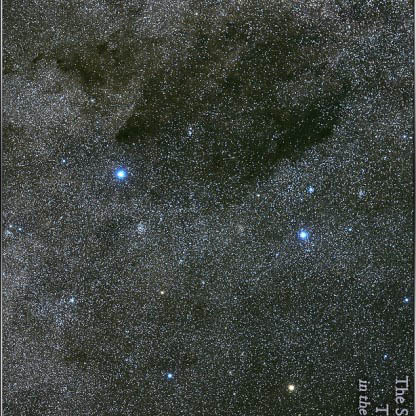Southern Cross: (108, 158, 139, 188), (292, 218, 316, 247), (280, 375, 305, 401), (157, 363, 176, 388)
